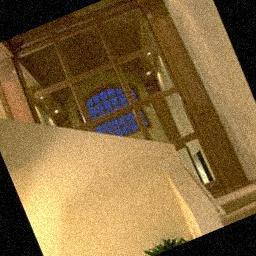Escaleras: (164, 123, 256, 236)
